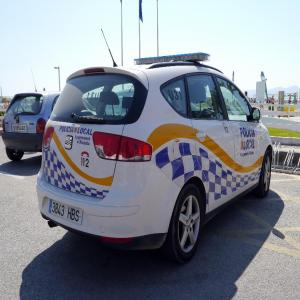Vehicle-registration-plate: (50, 200, 84, 226), (12, 126, 27, 132)
